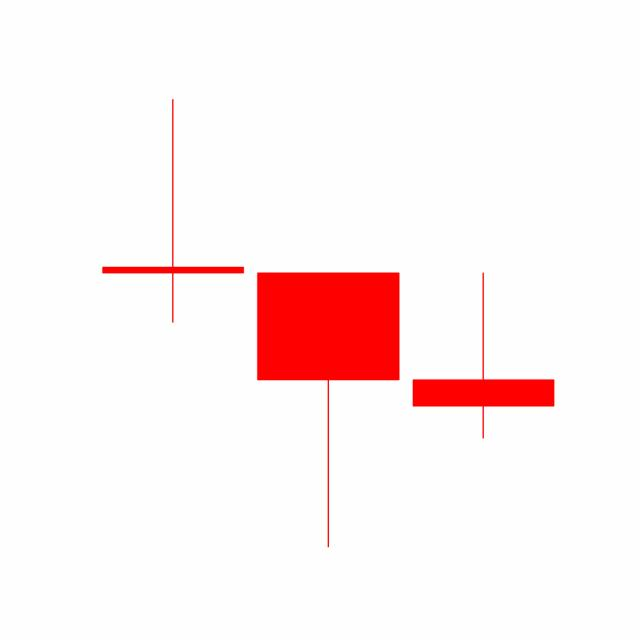Spinning Top: (405, 270, 561, 440)
